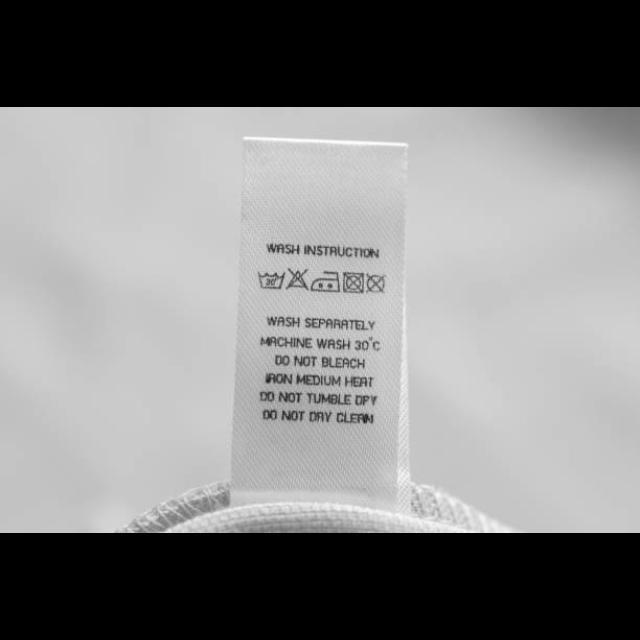30C: (256, 270, 286, 290)
DN_bleach: (286, 266, 310, 292)
DN_dry_clean: (364, 272, 388, 296)
DN_tumble_dry: (341, 271, 365, 295)
iron_medium: (310, 269, 340, 293)
